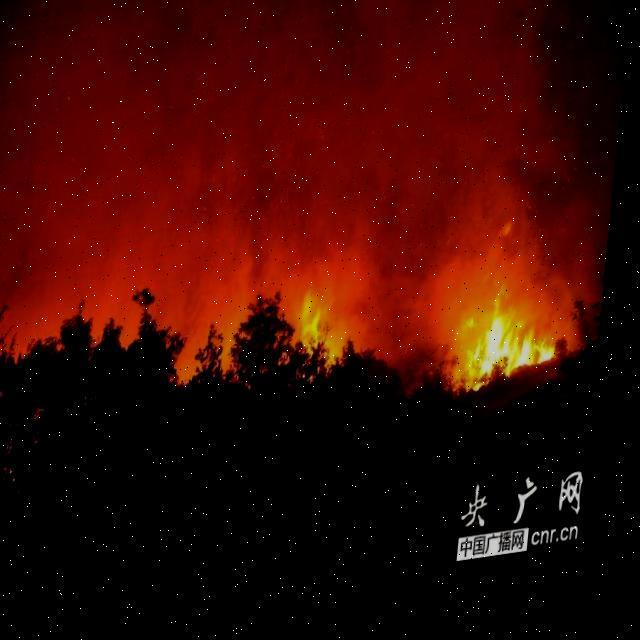Fire: (463, 278, 575, 411), (300, 299, 354, 392)
